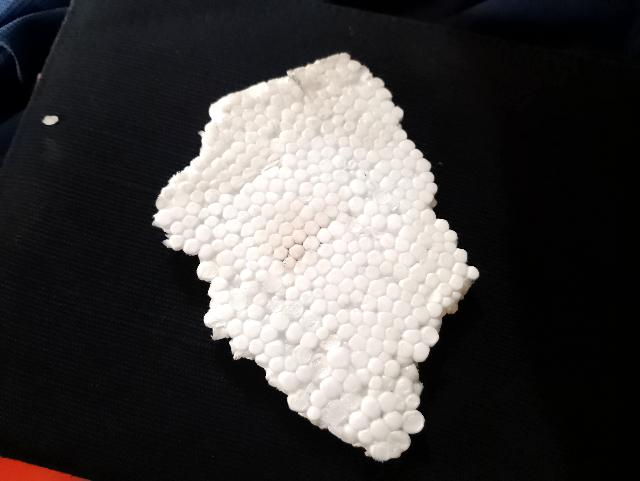cocksheet: (185, 78, 484, 425)
